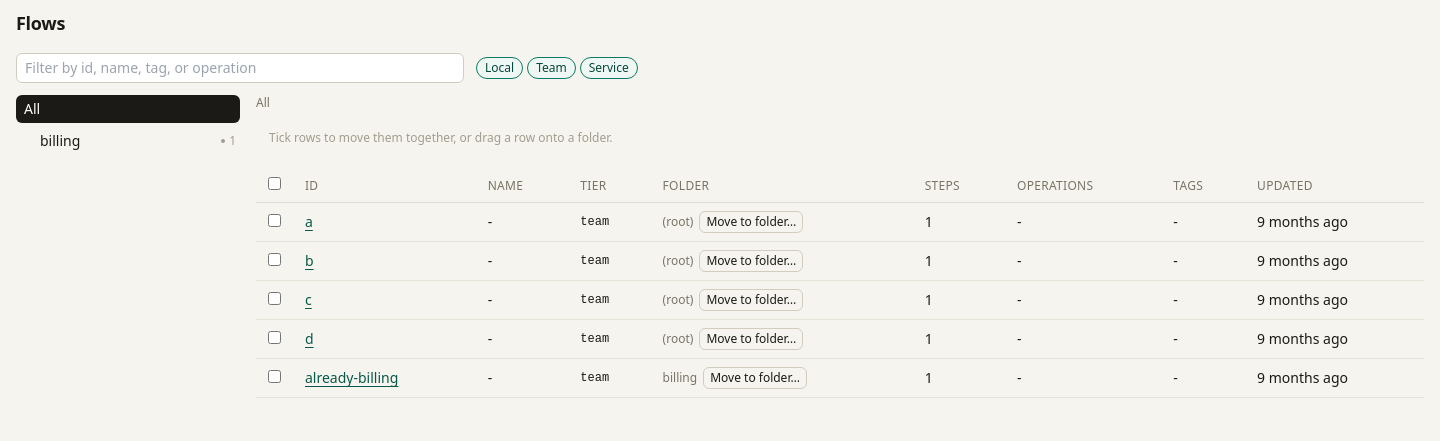
Test: bulk move (via FlowsPage) › continues past a per-item failure, keeps only the failed rows selected, and lists their errors
Expected: the link "a" is shown, left=305, top=212, right=313, bottom=231
Click the checkbox named "select a". click: (274, 220)
box: left=268, top=214, right=281, bottom=227
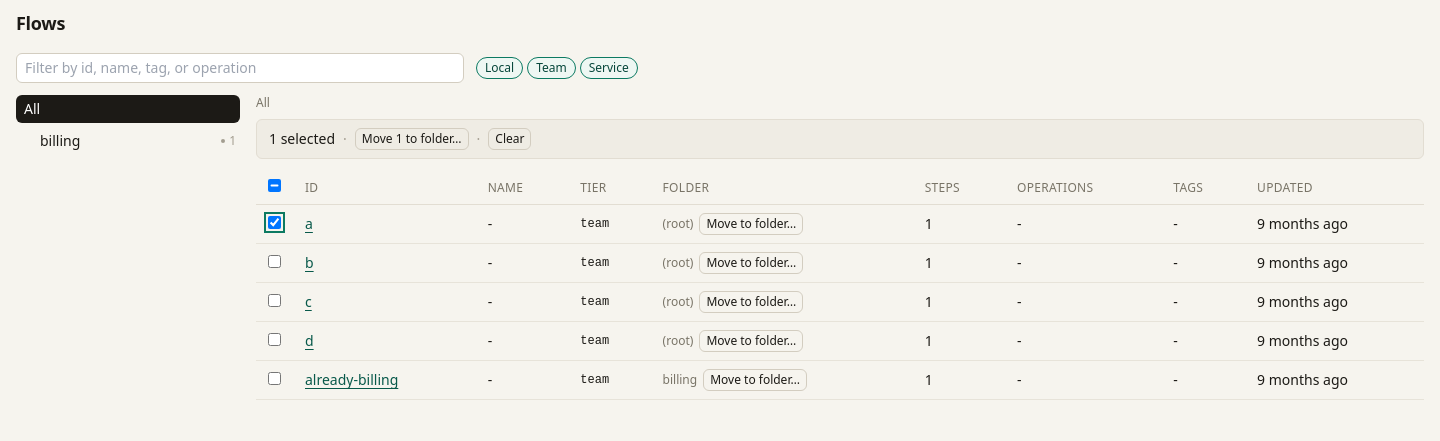
Click the checkbox named "select b". click: (274, 262)
box: left=268, top=255, right=281, bottom=268
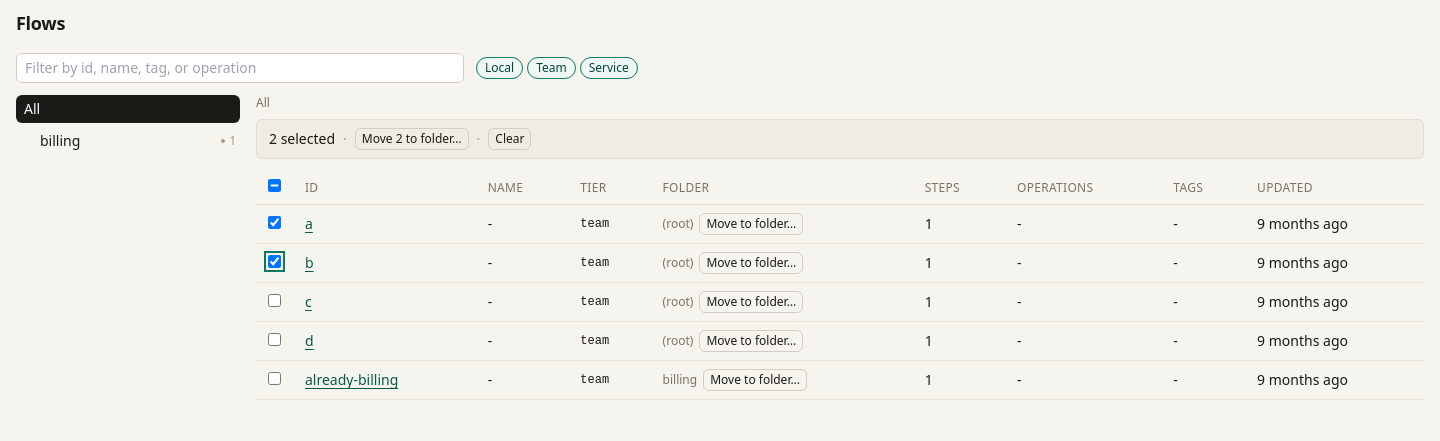
Click the checkbox named "select c". click: (274, 300)
box: left=268, top=294, right=281, bottom=307
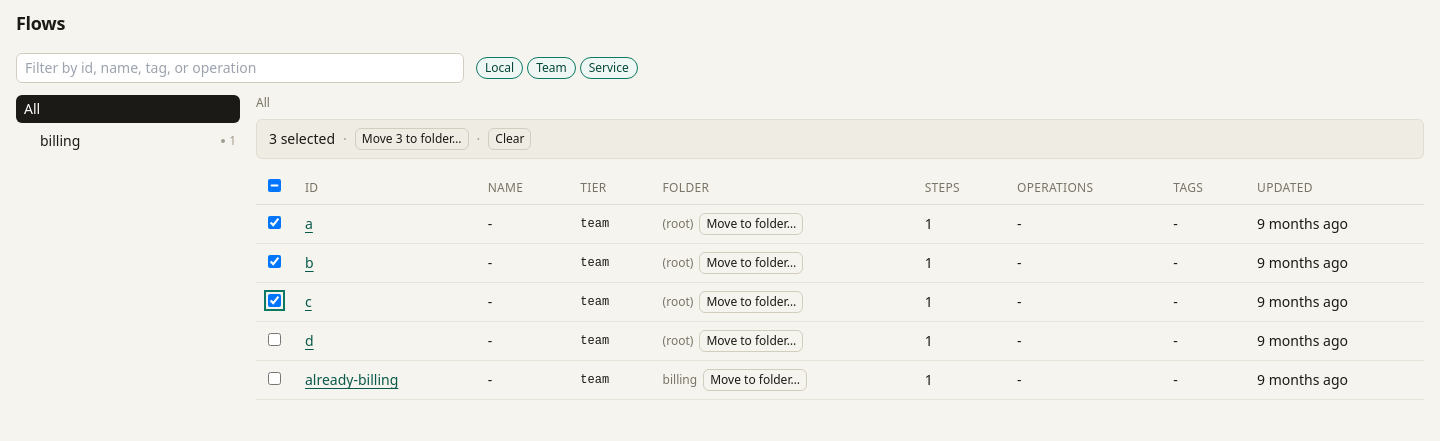
Click the button "Move 3 to folder…". click: (412, 139)
box: left=355, top=128, right=469, bottom=150
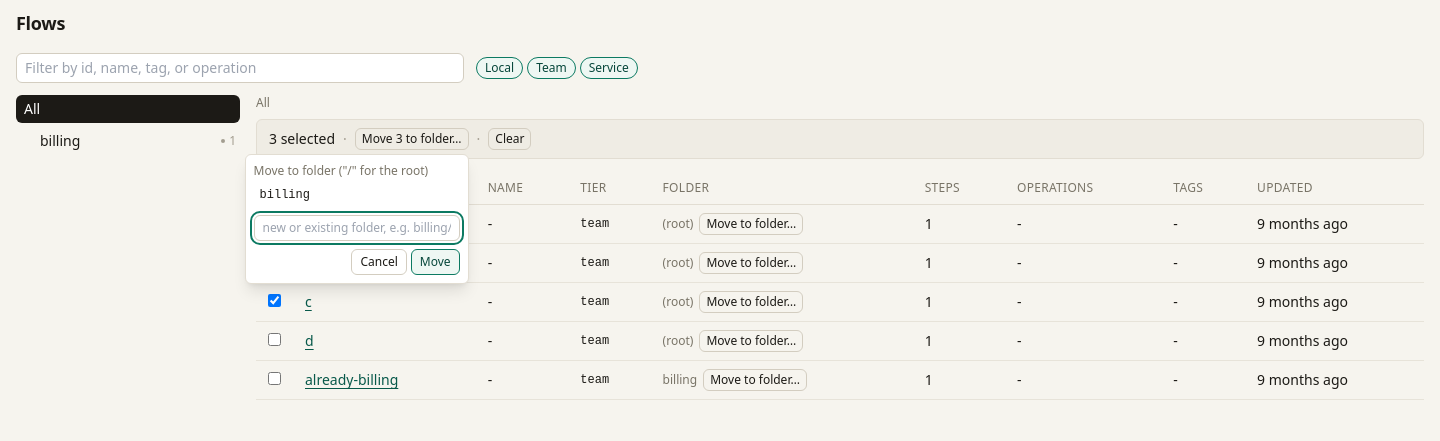
Type "billing" into the field labelled "Move to folder (\"/\" for the root)". click: (357, 228)
box: left=254, top=215, right=460, bottom=241
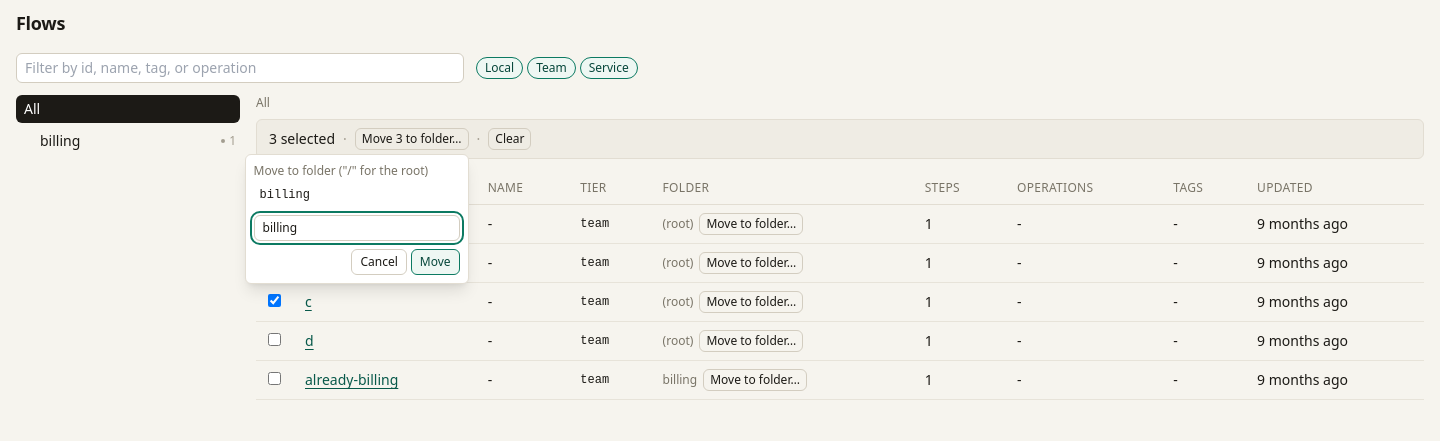
Click the button "Move". click: (435, 262)
box: left=411, top=249, right=460, bottom=275
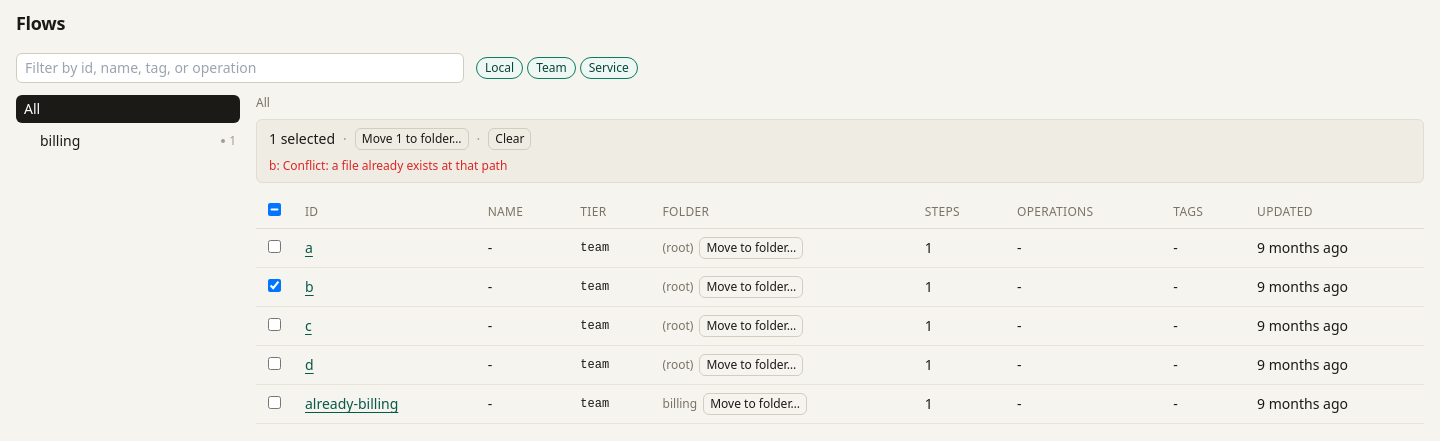
Expected: the checkbox named "select b" is checked, left=268, top=279, right=281, bottom=292
Expected: the checkbox named "select a" is not checked, left=268, top=240, right=281, bottom=253
Expected: the checkbox named "select c" is not checked, left=268, top=318, right=281, bottom=331
